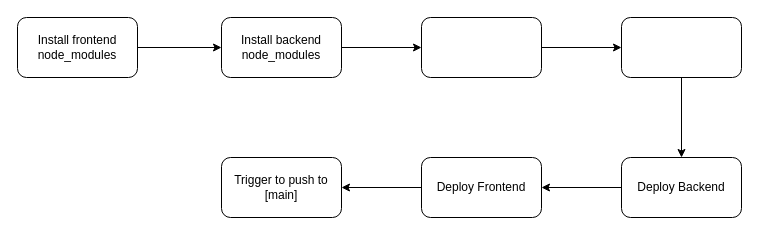
This 759x235 diagram has some shape labels left out. Each missing label, with the box of its shape:
Build Backend: (620, 16, 742, 78)
Build Frontend: (420, 16, 542, 78)
